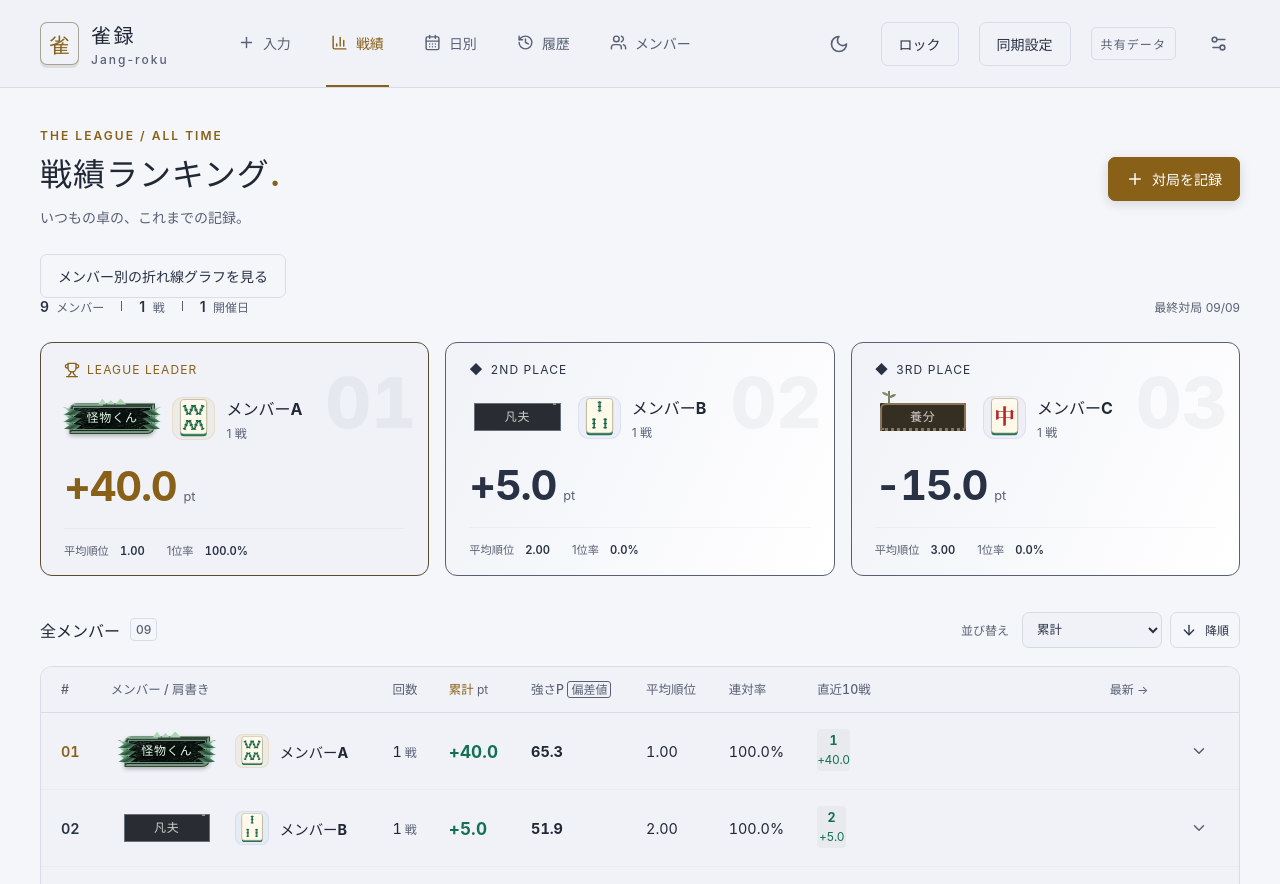
合言葉だけで2組目を開き、選択UIや前の組の名前を表示しない
Check: the heading "戦績ランキング." is shown, box [40, 153, 281, 198]
Click the button "ロック".
click(920, 44)  # box [881, 22, 959, 66]
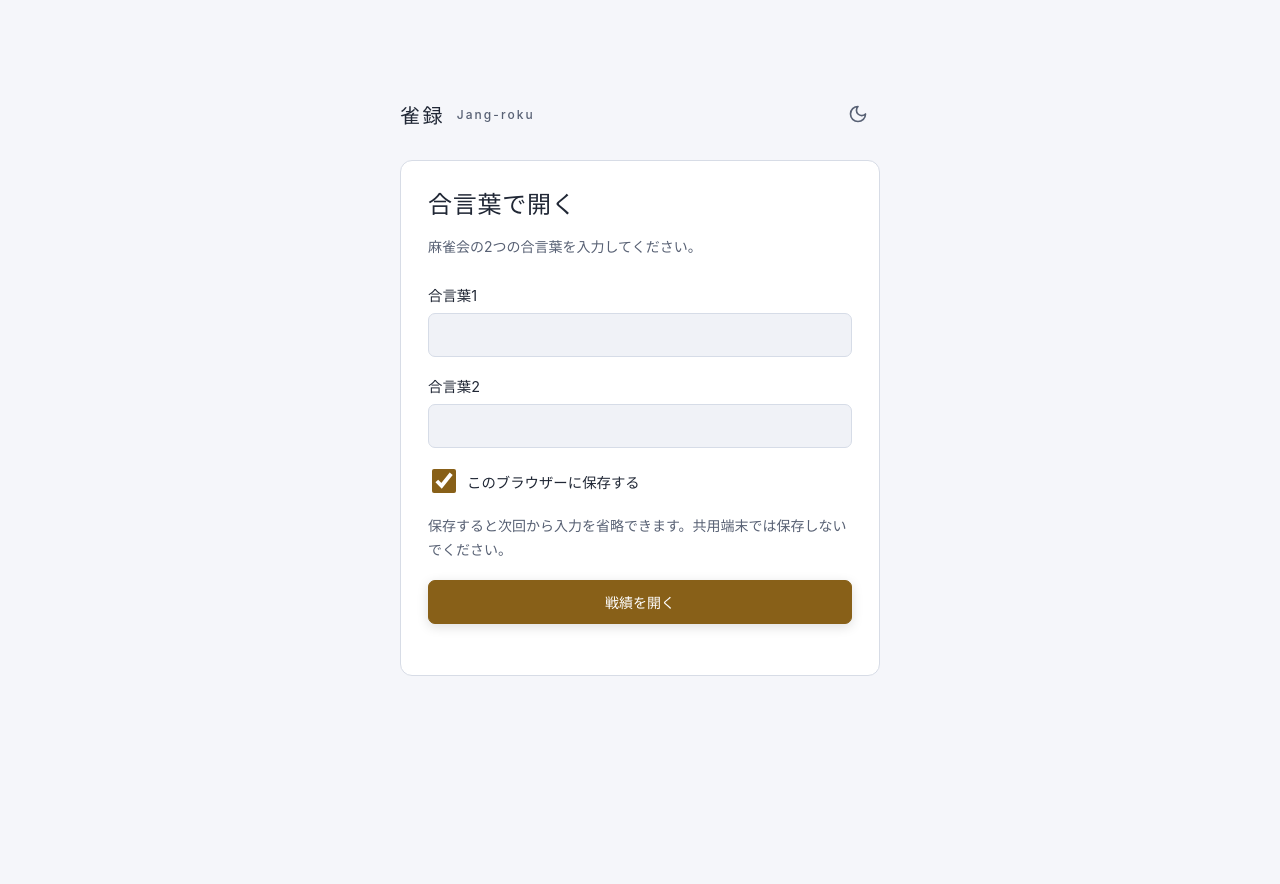
Check: the dropdown is gone
Type "test group two" into the field labelled "合言葉1".
click(640, 335); type("test group two")  # box [428, 313, 852, 357]
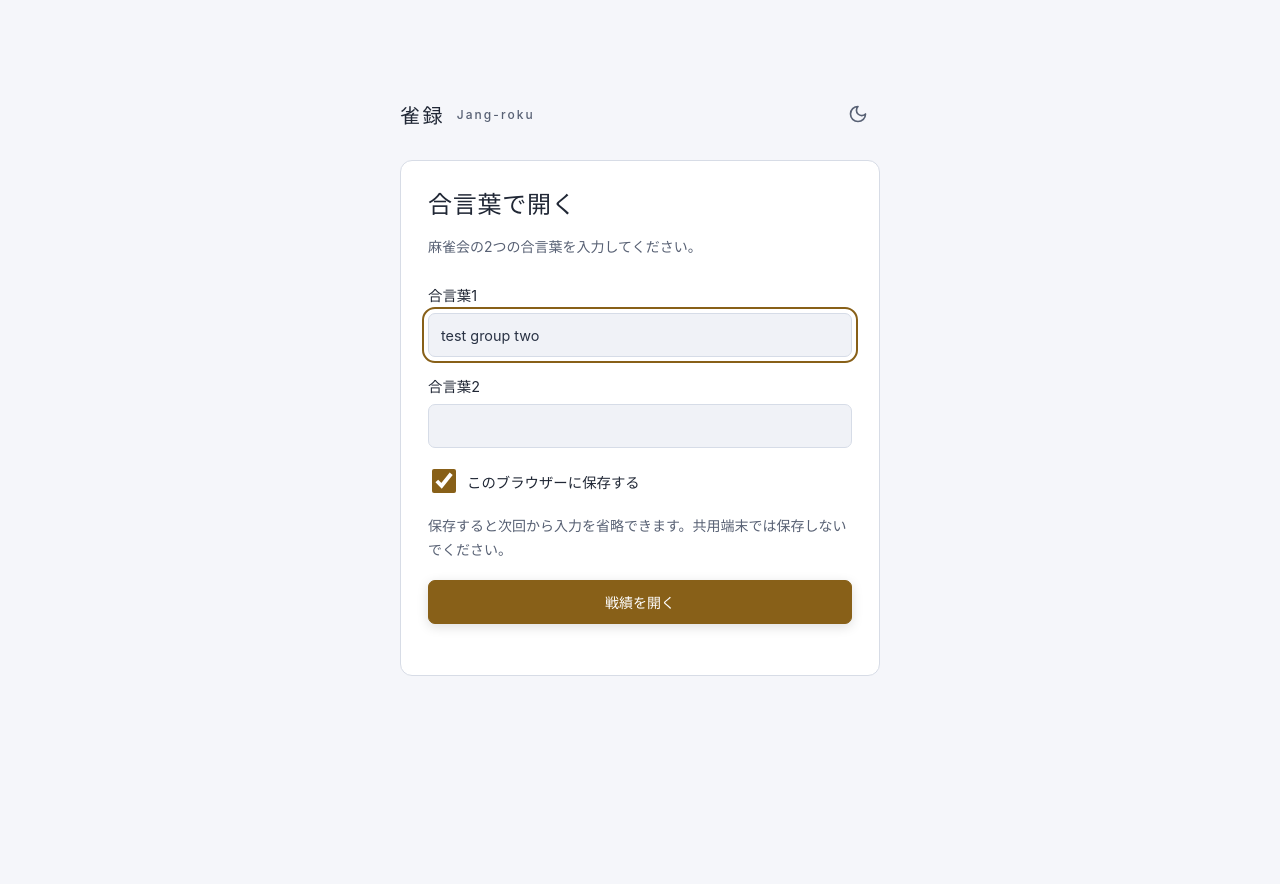
Type "second secret" into the field labelled "合言葉2".
click(640, 426); type("second secret")  # box [428, 404, 852, 448]
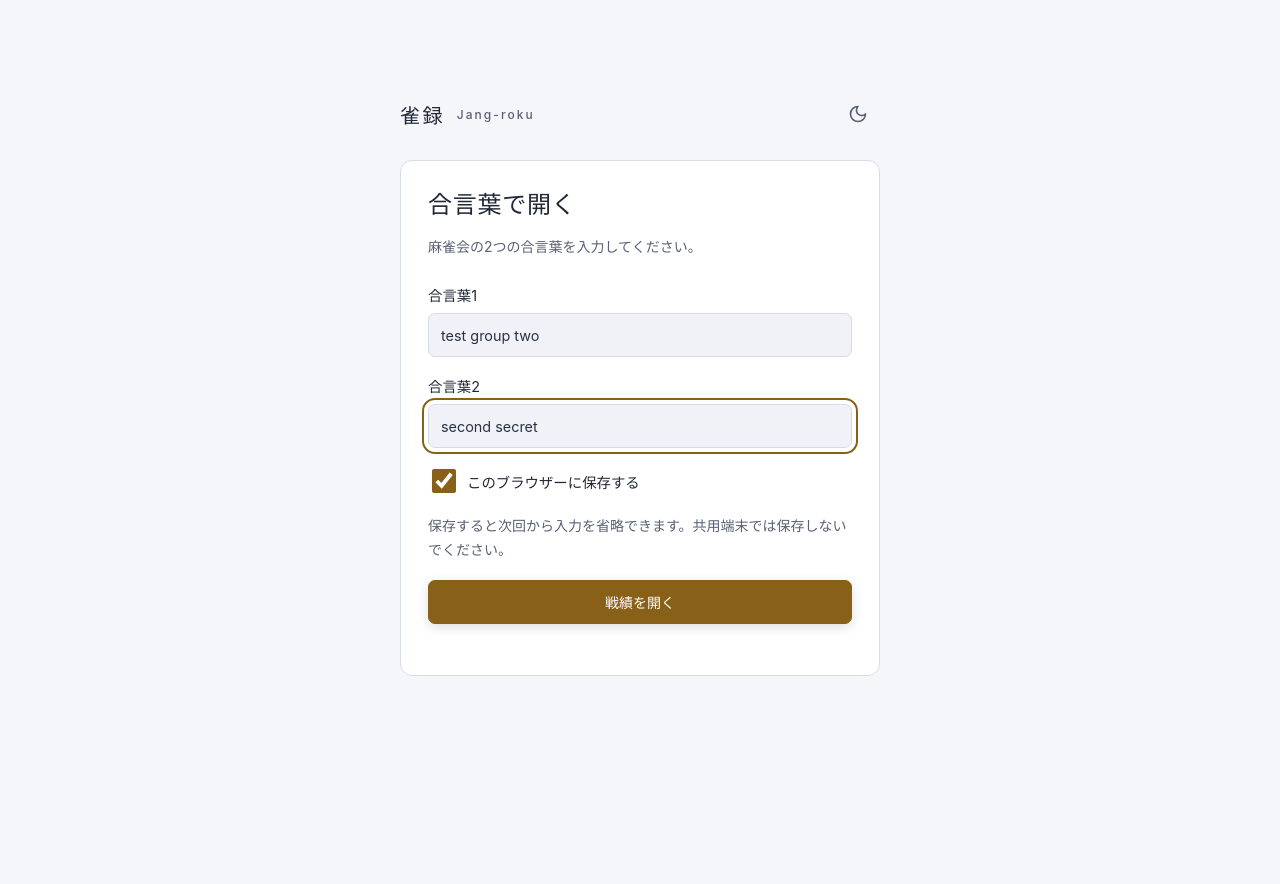
Click the button "戦績を開く".
click(640, 602)  # box [428, 580, 852, 624]
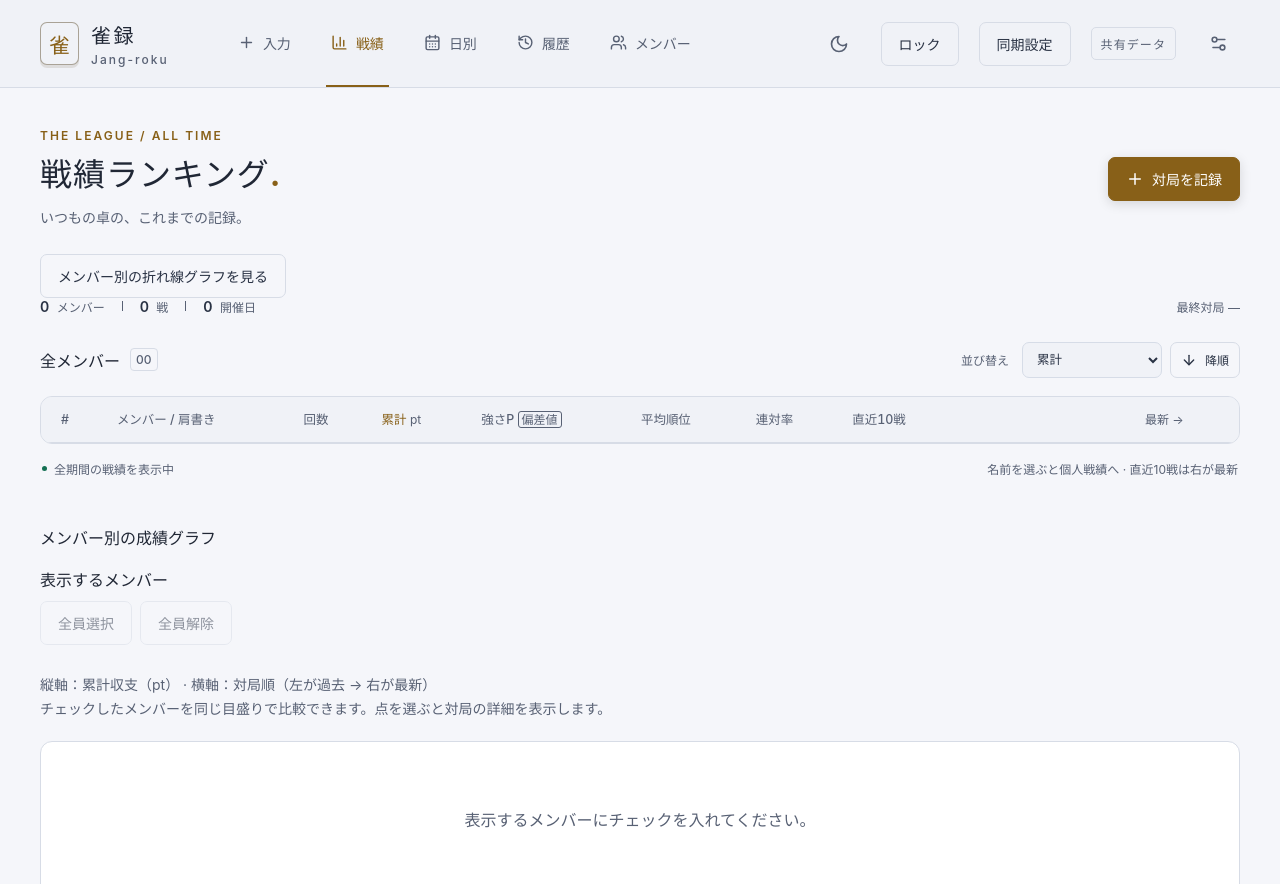
Check: the heading "戦績ランキング." is shown, box [40, 153, 281, 198]
